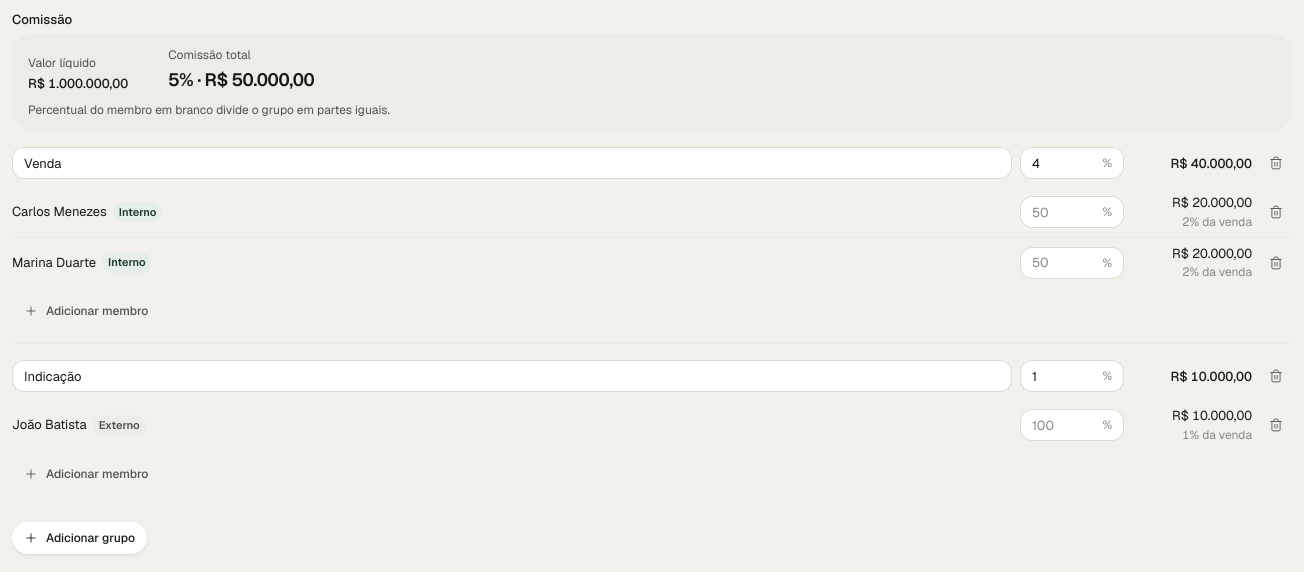
Scenario: CommissionEditor — edição › edita o nome e o percentual do grupo
This screenshot has width=1304, height=572.
Replace the text in the field named "Nome do grupo 2" with "Captação" at (512, 376), box [24,360,1000,392]
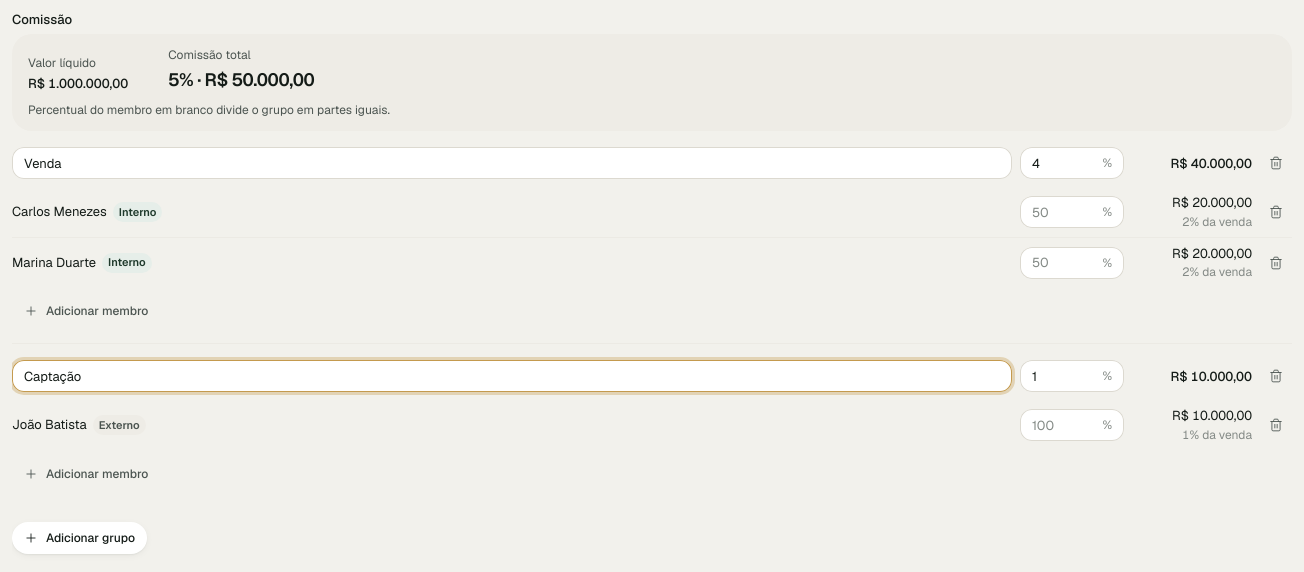
Replace the text in the field named "Percentual de Venda" with "5" at (1063, 163), box [1032,147,1094,179]
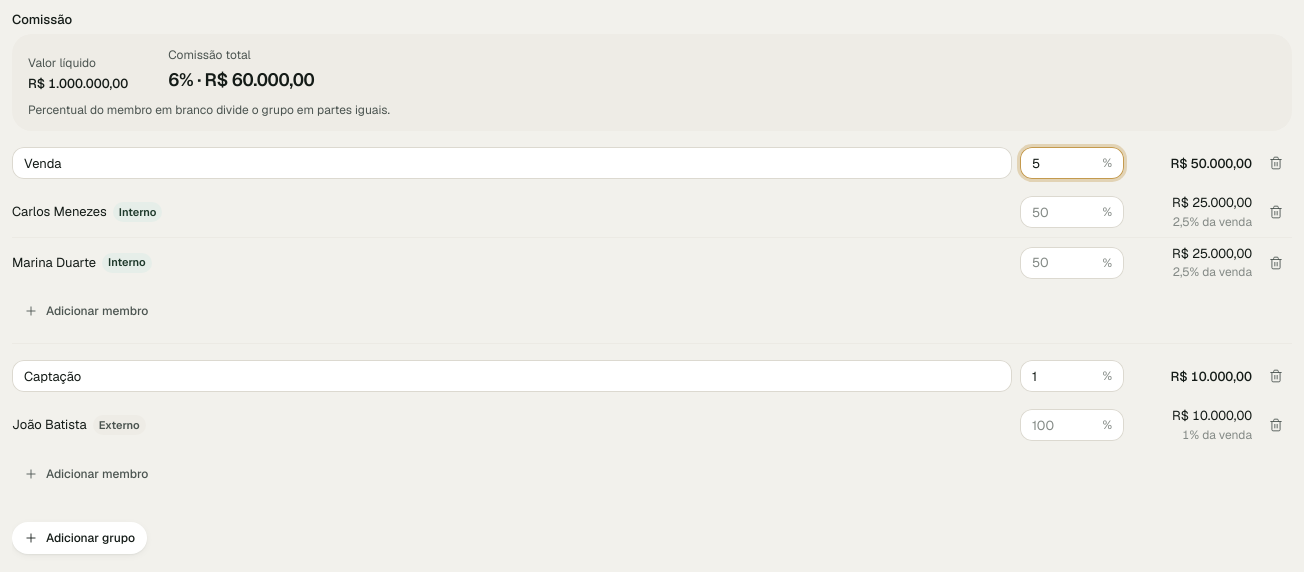
Now the element "venda" shows "R$ 50.000,00", box [1170,154,1252,172]
